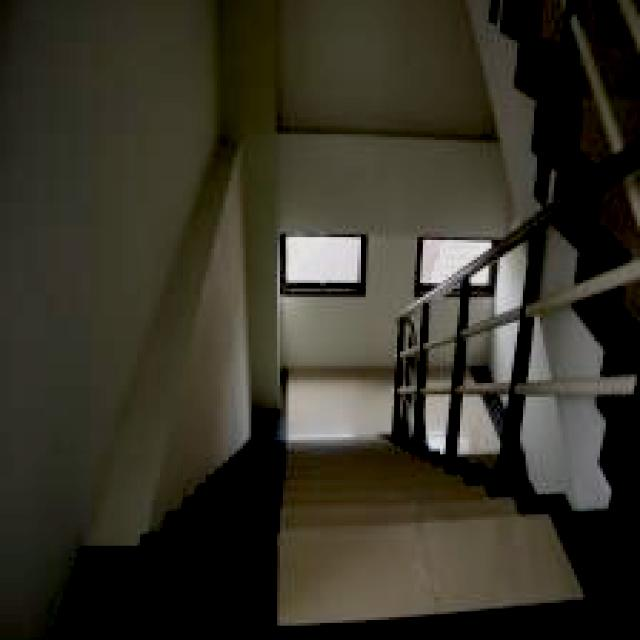downstair: (253, 452, 430, 607)
